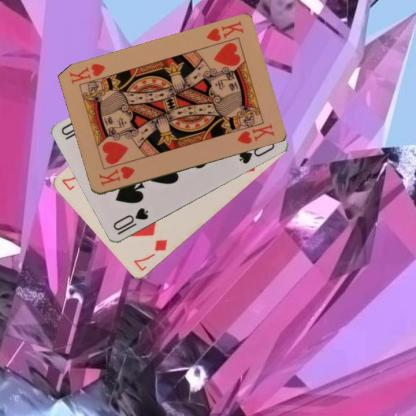10s: (110, 205, 150, 237)
7d: (130, 237, 168, 273)
Kh: (203, 18, 245, 44), (96, 163, 136, 188)
